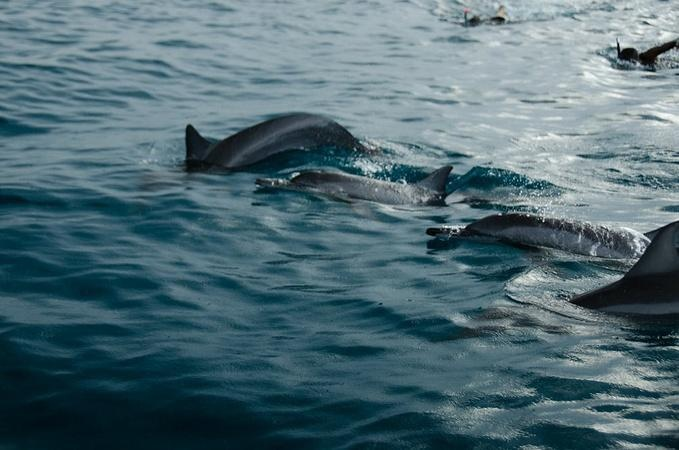fish: (172, 106, 379, 173), (421, 213, 647, 270)
